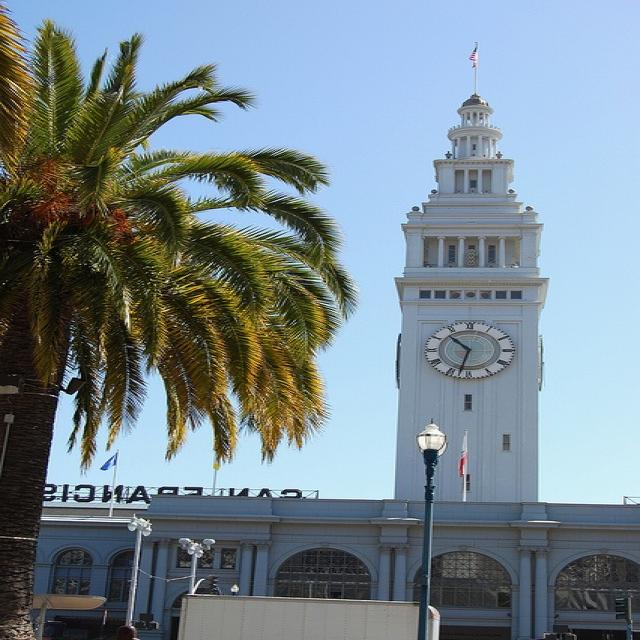truck: (171, 593, 434, 631)
